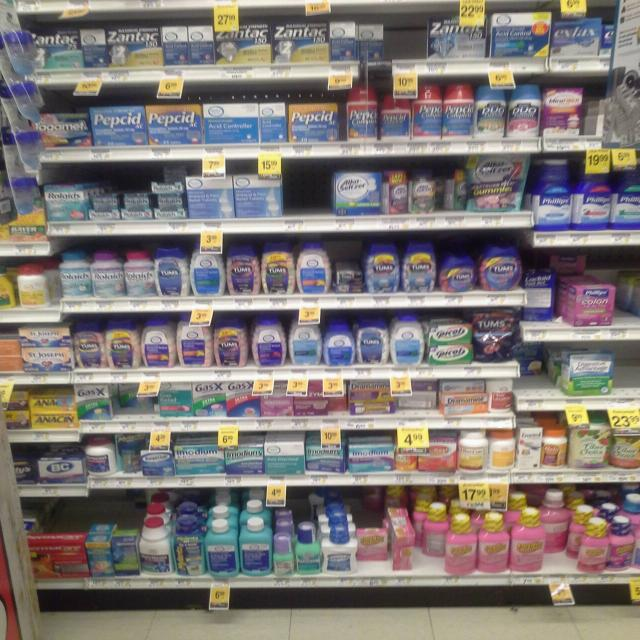void: (287, 162, 323, 238), (390, 23, 419, 72), (620, 348, 640, 412)
